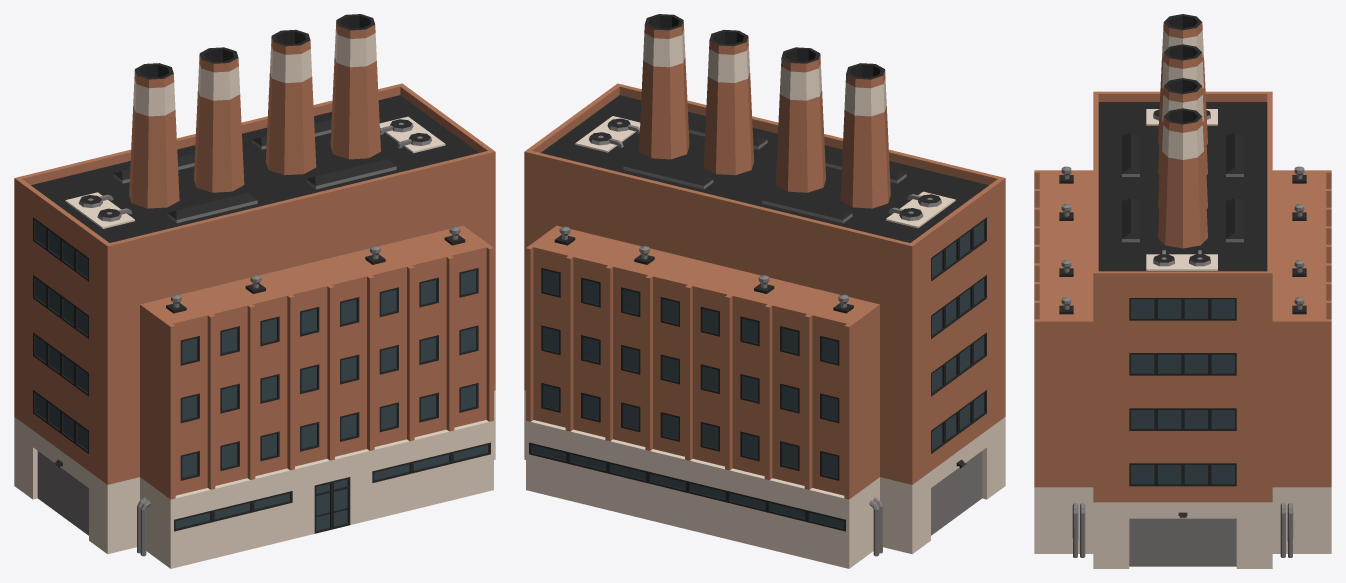
File: buildings_industry-factory.fbx
3 views of the same model, side by side, from view 1: azimuth 30°, elevation 25°; view 2: azimuth 150°, elevation 25°; view 3: azimuth 270°, elevation 25° (orthographic). The views are drawn at different scales.
Parts seen in each view (by area): view 1: buildings_industry_factory; view 2: buildings_industry_factory; view 3: buildings_industry_factory.
Boxes of the visible parts, x1,y1,x2,y2 form: buildings_industry_factory: (14,14,495,568); buildings_industry_factory: (524,14,1005,568); buildings_industry_factory: (1034,14,1331,568).
Bounding box in the file's own units: 196 × 200 × 132.
